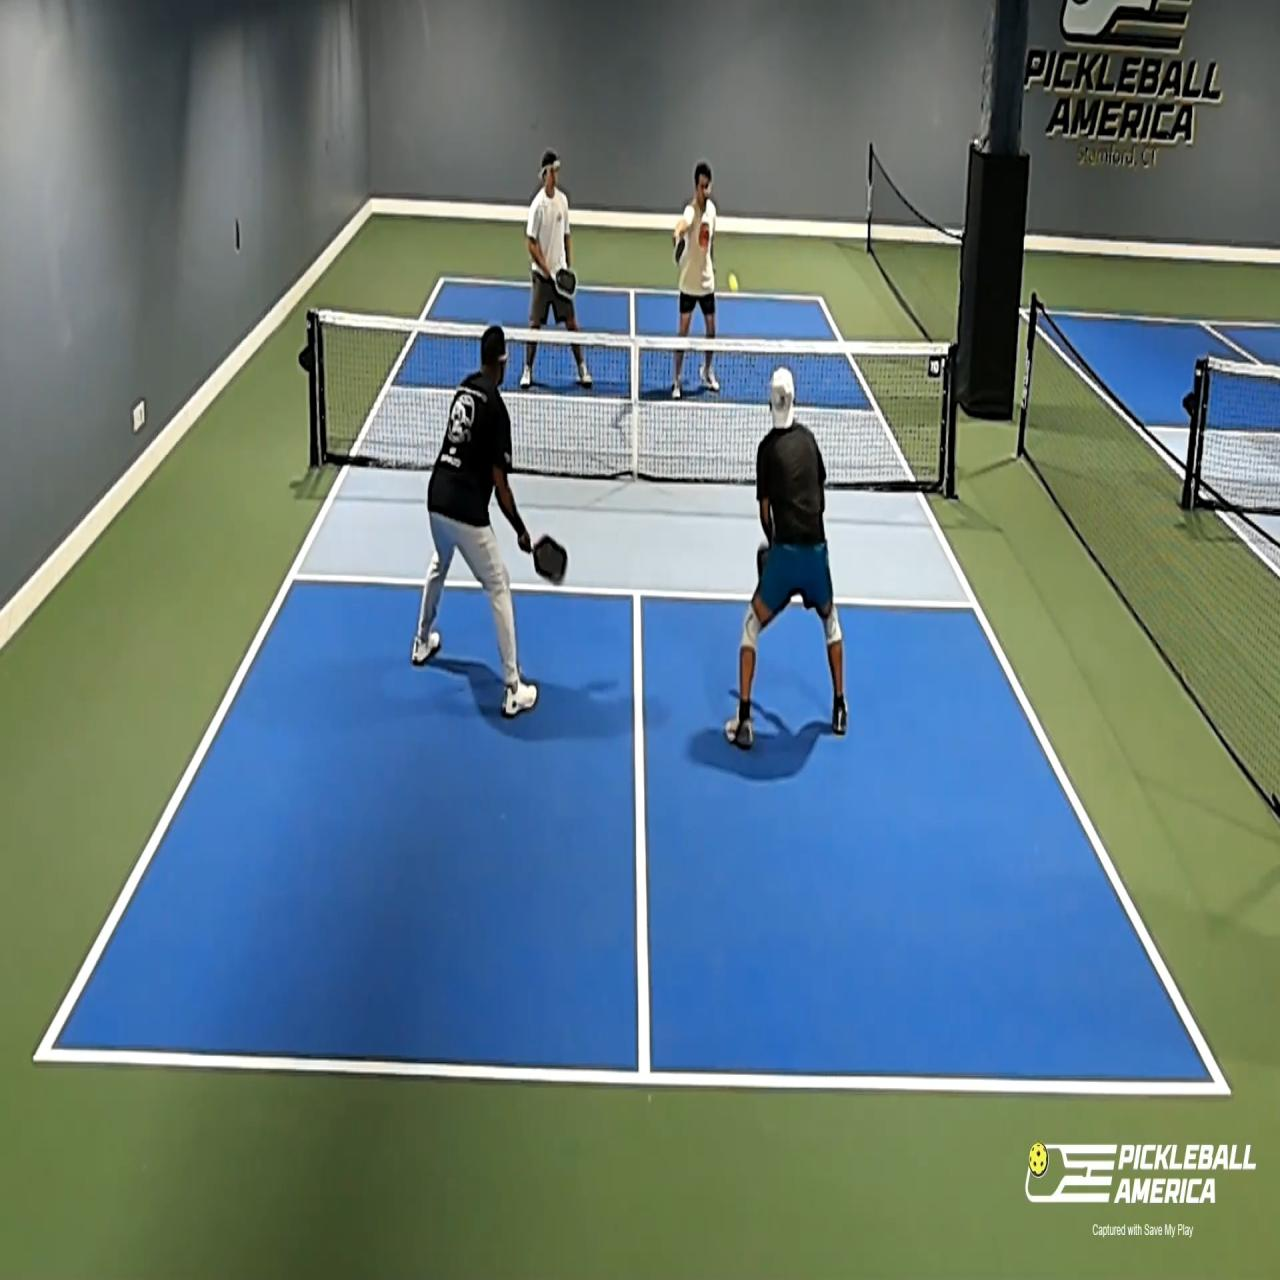Pickleball: (728, 267, 741, 297)
